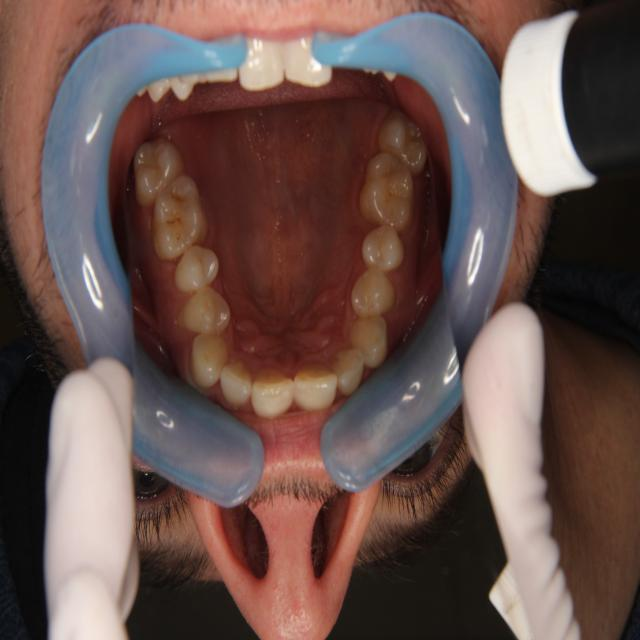tooth: (148, 169, 212, 266), (354, 146, 420, 237), (368, 101, 440, 180), (126, 127, 188, 207), (171, 277, 234, 346), (342, 306, 399, 372), (355, 215, 409, 281), (189, 317, 233, 394), (250, 354, 295, 425), (288, 352, 339, 414), (324, 334, 371, 399), (349, 261, 398, 322), (169, 238, 221, 295), (219, 348, 255, 413)
